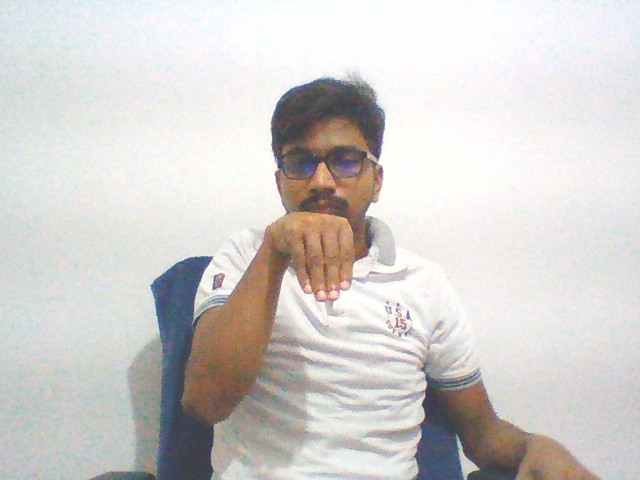Squirrel: (259, 202, 365, 309)
